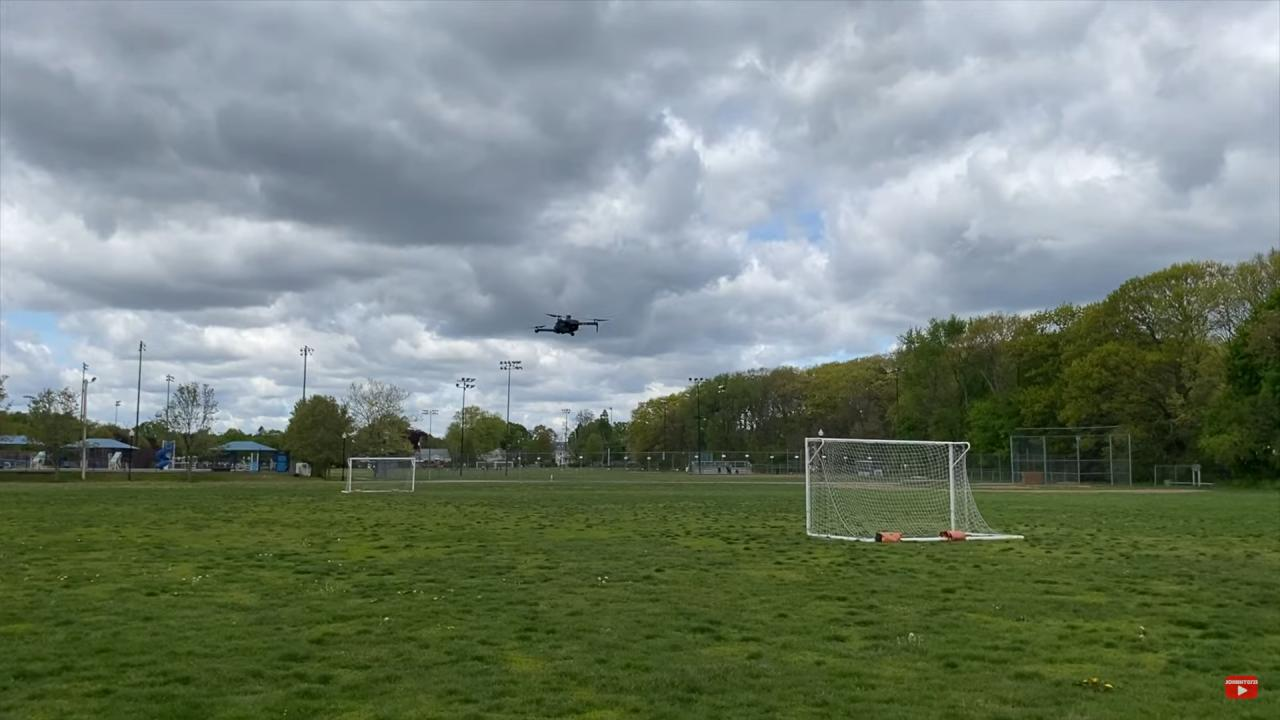Drone: (525, 304, 611, 349)
